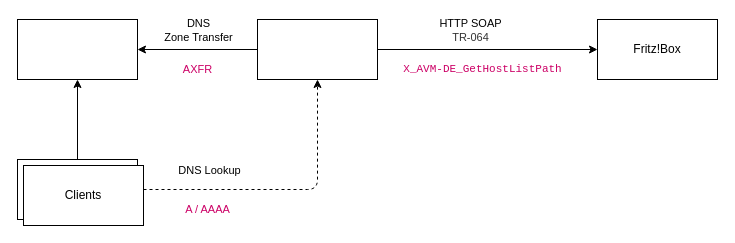
The diagram is 735 pixels wide and 243 high, and some of its shapes have lost their labels. Here are the shapes that lost their labels. From the top down, the centre of each, then its label:
At pixel 77 49: "Secondary NS".
At pixel 317 49: "Fritz-DNS (Hidden Master NS)".
